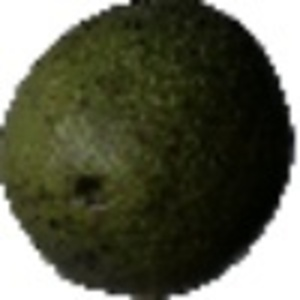abacate: (1, 1, 295, 293)
